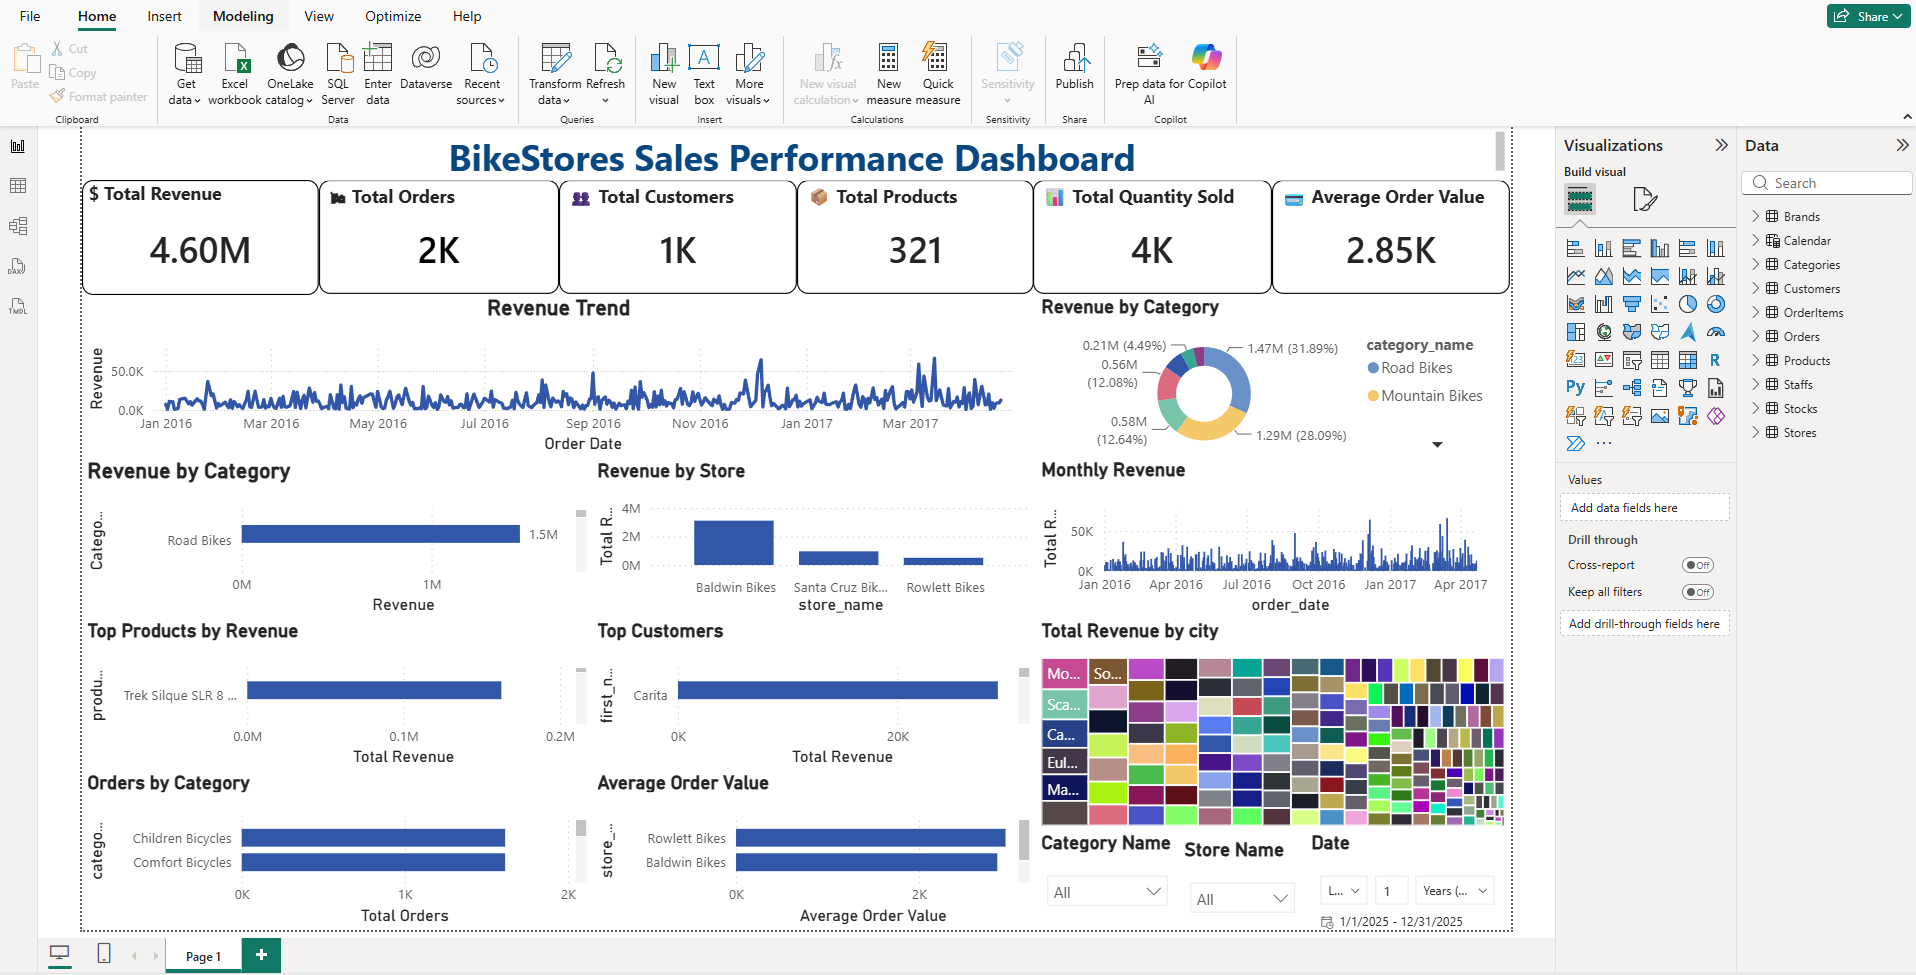

The dashboard page shown, as its layout file describes it:
{"tool":"powerbi","page":{"name":"Page 1","canvas":[1280,720],"ordinal":0},"visuals":[{"type":"cardVisual","title":"🛍 Total Orders","fields":{"Data":["Orders.Total Orders"]},"box":[212,48.6,215,102.1],"z":0},{"type":"cardVisual","title":"👥 Total Customers","fields":{"Data":["Customers.Total Customers"]},"box":[427,48.6,213,102.1],"z":1000},{"type":"cardVisual","title":"📦 Total Products","fields":{"Data":["Products.Total Prodducts"]},"box":[640,48.6,212,102.1],"z":2000},{"type":"cardVisual","title":"📊 Total Quantity Sold","fields":{"Data":["OrderItems.Total Quantity Sold"]},"box":[852,48.6,214,102.1],"z":3000},{"type":"cardVisual","title":"💳 Average Order Value","fields":{"Data":["OrderItems.Average Order Value"]},"box":[1066,48.6,213,102.1],"z":4000},{"type":"lineChart","title":"Revenue Trend","fields":{"Category":["Orders.order_date.Variation.Date Hierarchy.Year"],"Y":["Brands.total revenue"]},"box":[0,151,854,145.9],"z":5000},{"type":"clusteredBarChart","title":"Revenue by Category","fields":{"Category":["Categories.category_name"],"Y":["Brands.total revenue"]},"box":[0,297.6,457.1,144],"z":6000},{"type":"clusteredColumnChart","title":"Revenue by Store","fields":{"Category":["Stores.store_name"],"Y":["Brands.total revenue"]},"box":[457.1,298.6,396.8,143],"z":7000},{"type":"clusteredBarChart","title":"Top Products by Revenue","fields":{"Category":["Products.product_name"],"Y":["Brands.total revenue"]},"box":[0,441.6,457.1,136.2],"z":8000},{"type":"donutChart","title":"Revenue by Category","fields":{"Category":["Categories.category_name"],"Y":["Brands.total revenue"]},"box":[854,151.7,426,146.9],"z":9000},{"type":"slicer","fields":{"Values":["Orders.order_date"]},"box":[625.4,556.4,164,150],"z":10000},{"type":"slicer","title":"Category Name","fields":{"Values":["Categories.category_name"]},"box":[852,638.1,205.2,81.7],"z":11000},{"type":"slicer","title":"Store Name","fields":{"Values":["Stores.store_name"]},"box":[1057.3,638.1,221.8,81.7],"z":12000},{"type":"clusteredColumnChart","title":"Monthly Revenue","fields":{"Category":["Orders.order_date.Variation.Date Hierarchy.Month"],"Y":["Brands.total revenue"]},"box":[854,297.6,426,144],"z":13000},{"type":"clusteredBarChart","title":"Orders by Category","fields":{"Category":["Categories.category_name"],"Y":["Orders.Total Orders"]},"box":[0,577.8,457.1,142],"z":14000},{"type":"clusteredBarChart","title":"Top Customers","fields":{"Category":["Customers.first_name","Customers.last_name","Orders.order_date.Variation.Date Hierarchy.Year"],"Y":["Brands.total revenue"]},"box":[457.1,441.6,396.8,136.2],"z":15000},{"type":"textbox","box":[0,0,1279,48.6],"z":16000},{"type":"clusteredBarChart","title":"Average Order Value","fields":{"Category":["Stores.store_name"],"Y":["OrderItems.Average Order Value"]},"box":[457.1,577.8,396.8,142],"z":17000},{"type":"cardVisual","title":"$ Total Revenue","fields":{"Data":["Brands.Total Revenue"]},"box":[0,48.6,212,103.1],"z":18000},{"type":"treemap","fields":{"Values":["Brands.Total Revenue"],"Group":["Customers.city"]},"box":[854,441.6,276.2,196.5],"z":19000},{"type":"slicer","title":"Date","fields":{"Values":["Calendar.Date"]},"box":[1131.2,441.6,148.8,101.2],"z":20000},{"type":"slicer","title":"Brand Name","fields":{"Values":["Brands.brand_name"]},"box":[1130.2,542.7,149.8,95.3],"z":21000}]}

Visuals, with their boxes on the page's 1280x720 design canvas (x1, y1, x2, y2). These are canvas units, not pixel positions in the 1916x975 screenshot, which may show the page scaled, cropped or inside an application window:
"🛍 Total Orders" cardVisual: left=212, top=49, right=427, bottom=151
"👥 Total Customers" cardVisual: left=427, top=49, right=640, bottom=151
"📦 Total Products" cardVisual: left=640, top=49, right=852, bottom=151
"📊 Total Quantity Sold" cardVisual: left=852, top=49, right=1066, bottom=151
"💳 Average Order Value" cardVisual: left=1066, top=49, right=1279, bottom=151
"Revenue Trend" lineChart: left=0, top=151, right=854, bottom=297
"Revenue by Category" clusteredBarChart: left=0, top=298, right=457, bottom=442
"Revenue by Store" clusteredColumnChart: left=457, top=299, right=854, bottom=442
"Top Products by Revenue" clusteredBarChart: left=0, top=442, right=457, bottom=578
"Revenue by Category" donutChart: left=854, top=152, right=1280, bottom=299
slicer - Orders.order_date: left=625, top=556, right=789, bottom=706
"Category Name" slicer: left=852, top=638, right=1057, bottom=720
"Store Name" slicer: left=1057, top=638, right=1279, bottom=720
"Monthly Revenue" clusteredColumnChart: left=854, top=298, right=1280, bottom=442
"Orders by Category" clusteredBarChart: left=0, top=578, right=457, bottom=720
"Top Customers" clusteredBarChart: left=457, top=442, right=854, bottom=578
textbox: left=0, top=0, right=1279, bottom=49
"Average Order Value" clusteredBarChart: left=457, top=578, right=854, bottom=720
"$ Total Revenue" cardVisual: left=0, top=49, right=212, bottom=152
treemap - Brands.Total Revenue x Customers.city: left=854, top=442, right=1130, bottom=638
"Date" slicer: left=1131, top=442, right=1280, bottom=543
"Brand Name" slicer: left=1130, top=543, right=1280, bottom=638
